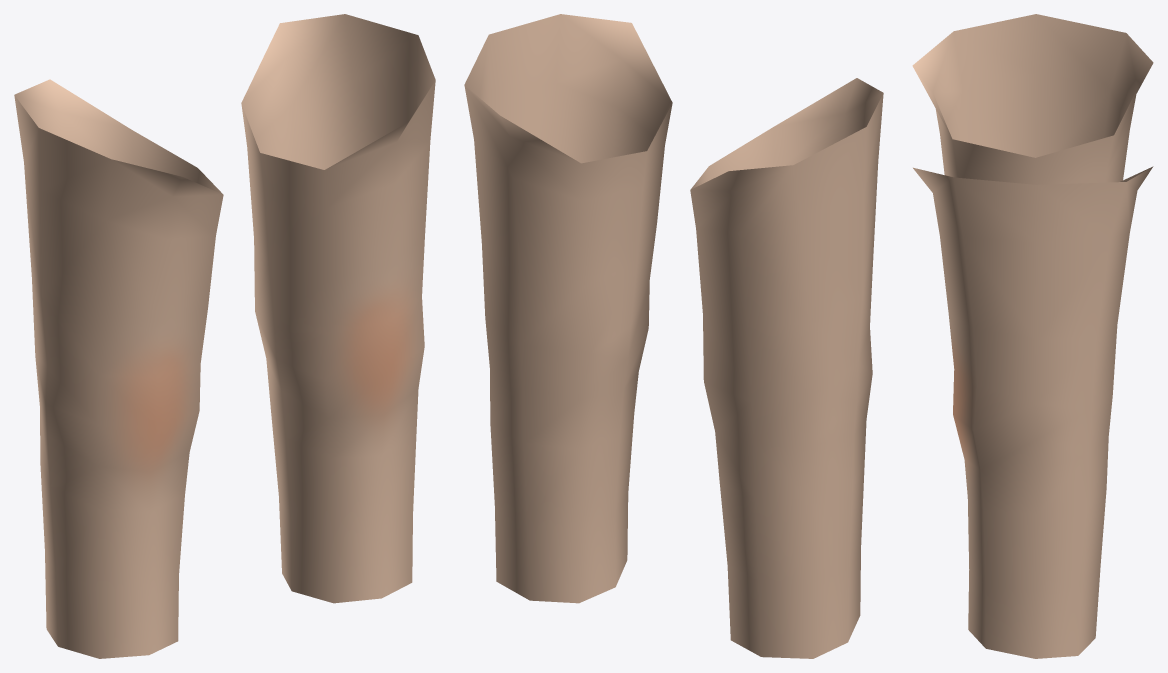
Rendered from Body_White_LegC_2.fbx.
3 views of the same model, side by side, from view 1: azimuth 30°, elevation 25°; view 2: azimuth 150°, elevation 25°; view 3: azimuth 270°, elevation 25° (orthographic). The views are drawn at different scales.
Parts seen in each view (by area): view 1: Body_White_LegC_2; view 2: Body_White_LegC_2; view 3: Body_White_LegC_2.
Boxes of the visible parts, x1,y1,x2,y2 form: Body_White_LegC_2: [14, 14, 435, 658]; Body_White_LegC_2: [464, 14, 883, 658]; Body_White_LegC_2: [912, 14, 1153, 658].
Bounding box in the file's own units: 33.18 × 44.04 × 19.8.
